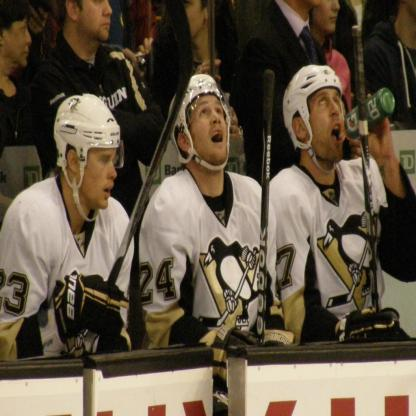Helmet: (48, 90, 122, 223), (283, 66, 347, 175), (172, 74, 232, 173)
